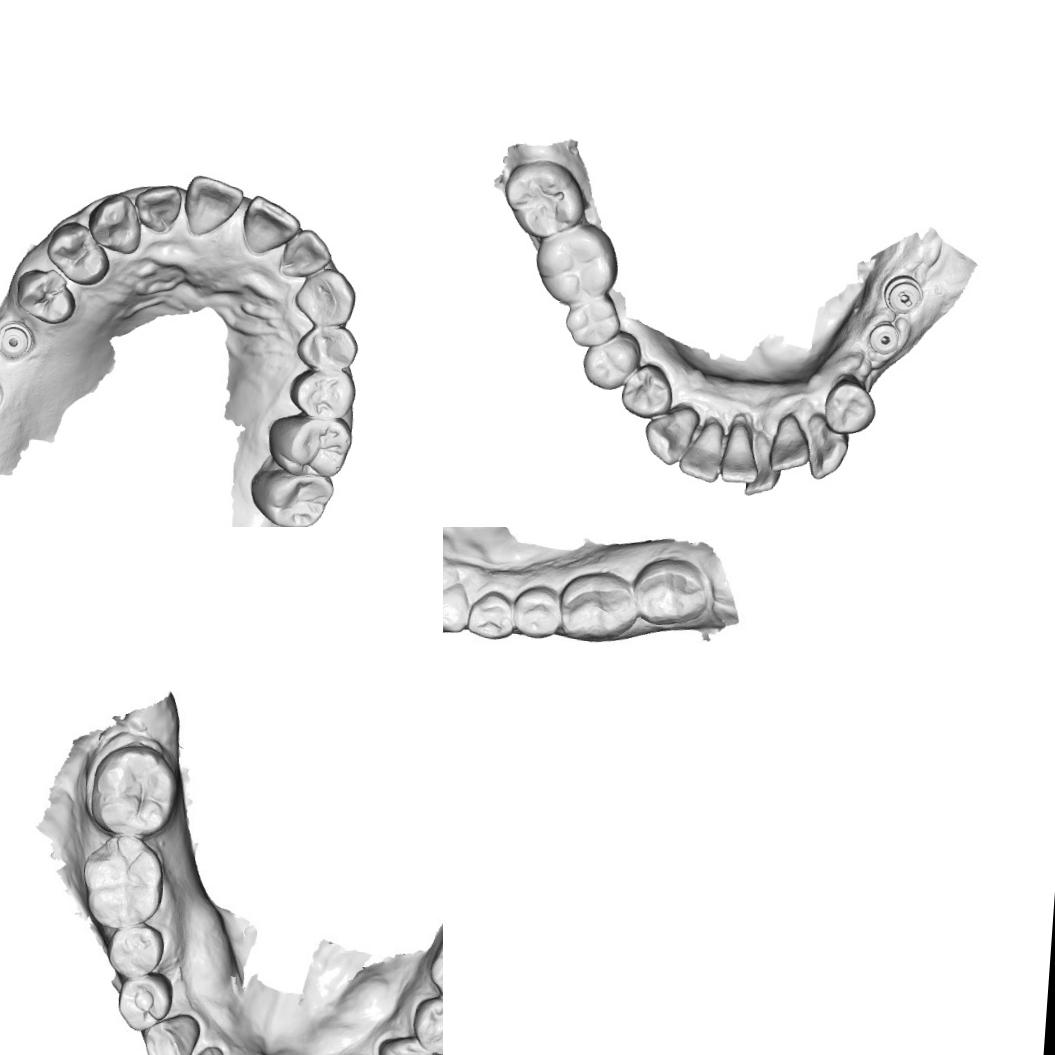canine: (291, 263, 358, 331), (84, 190, 146, 256), (640, 402, 698, 470), (802, 412, 852, 482), (138, 1008, 201, 1055), (443, 581, 476, 635)
implant: (863, 318, 905, 358), (0, 319, 34, 360)
implant_minus: (882, 272, 926, 314)
incisor: (237, 192, 304, 260), (180, 172, 245, 240), (276, 226, 336, 282), (716, 418, 764, 486), (130, 180, 188, 236), (676, 418, 725, 483), (767, 413, 813, 474), (742, 433, 785, 498), (181, 1039, 233, 1055)
molar: (89, 741, 179, 836), (79, 834, 165, 928), (537, 225, 618, 305), (630, 555, 716, 628), (264, 410, 354, 479), (246, 461, 339, 527), (555, 569, 635, 645), (501, 163, 581, 238), (561, 294, 622, 354)
premolar: (44, 218, 114, 288), (285, 364, 360, 424), (578, 328, 644, 393), (11, 264, 80, 326), (106, 918, 166, 980), (617, 361, 675, 424), (292, 320, 360, 373), (112, 972, 170, 1032), (822, 373, 878, 435), (507, 581, 565, 640), (464, 588, 514, 645), (410, 990, 443, 1055), (378, 1030, 438, 1055)
